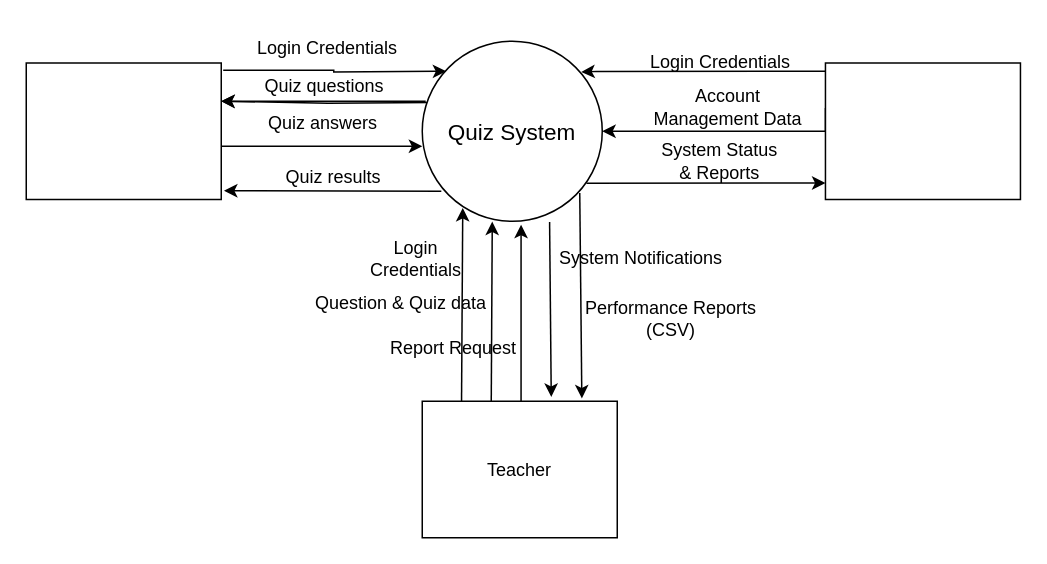
The diagram is 1047 pixels wide and 564 high, and some of its shapes have lost their labels. The centre of each missing label's shape, as x and y in pixels:
Admin: the point at 922,131
Student: the point at 123,131
